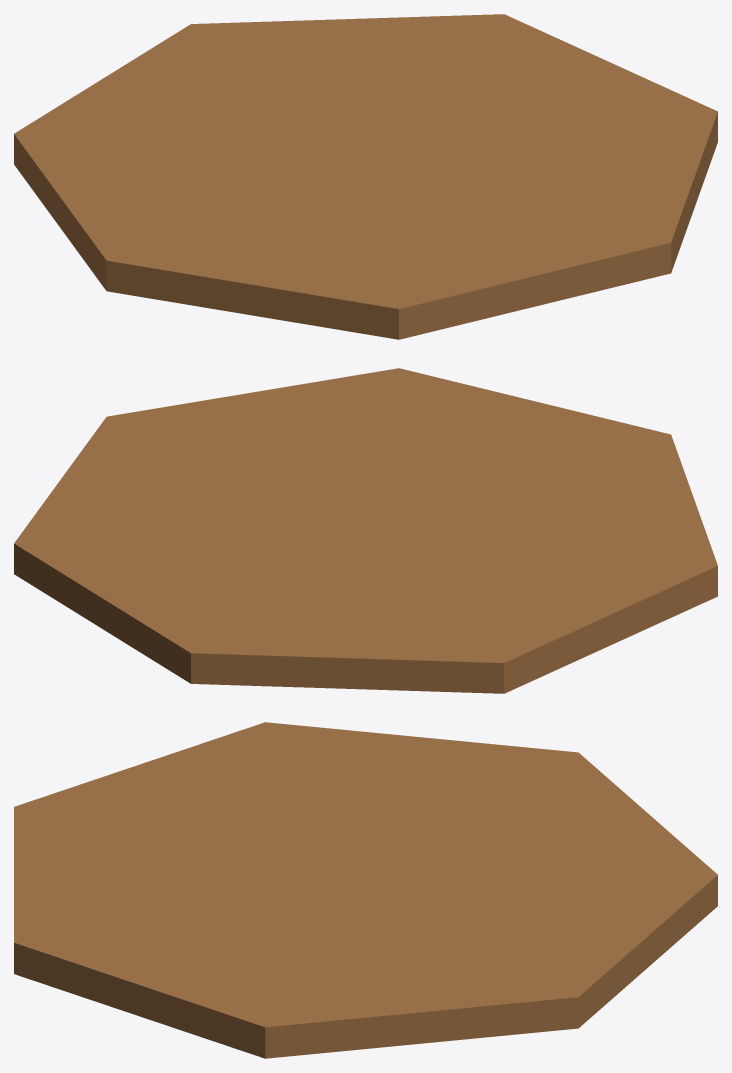
The model's file is WoodBarrelTopDestroyed.glb.
The picture shows the model from 3 angles, top to bottom: view 1: azimuth 30°, elevation 25°; view 2: azimuth 150°, elevation 25°; view 3: azimuth 270°, elevation 25°; orthographic projection. The views are drawn at different scales.
Visible parts, largest first — view 1: WoodBarrelTopDestroyed2; view 2: WoodBarrelTopDestroyed2; view 3: WoodBarrelTopDestroyed2.
Boxes of the visible parts, x1,y1,x2,y2 form: WoodBarrelTopDestroyed2: [14, 14, 717, 339]; WoodBarrelTopDestroyed2: [14, 368, 717, 693]; WoodBarrelTopDestroyed2: [14, 722, 717, 1058].
Size of the model in its own units: 0.9863 by 0.0473 by 0.9616.
Materials: 1 (1 with a texture image).
